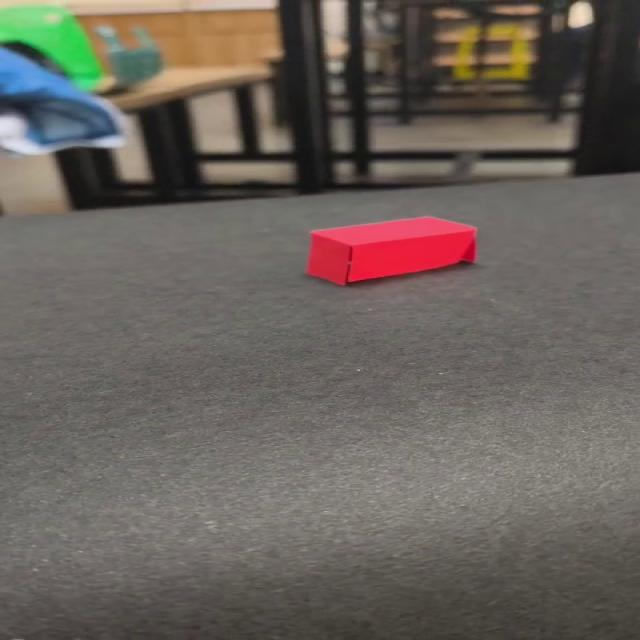red block: (304, 215, 477, 286)
